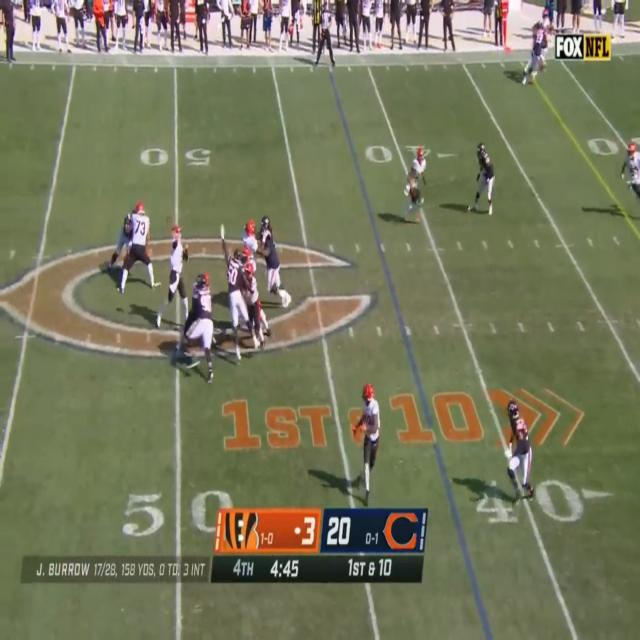Ball: (166, 213, 174, 228)
